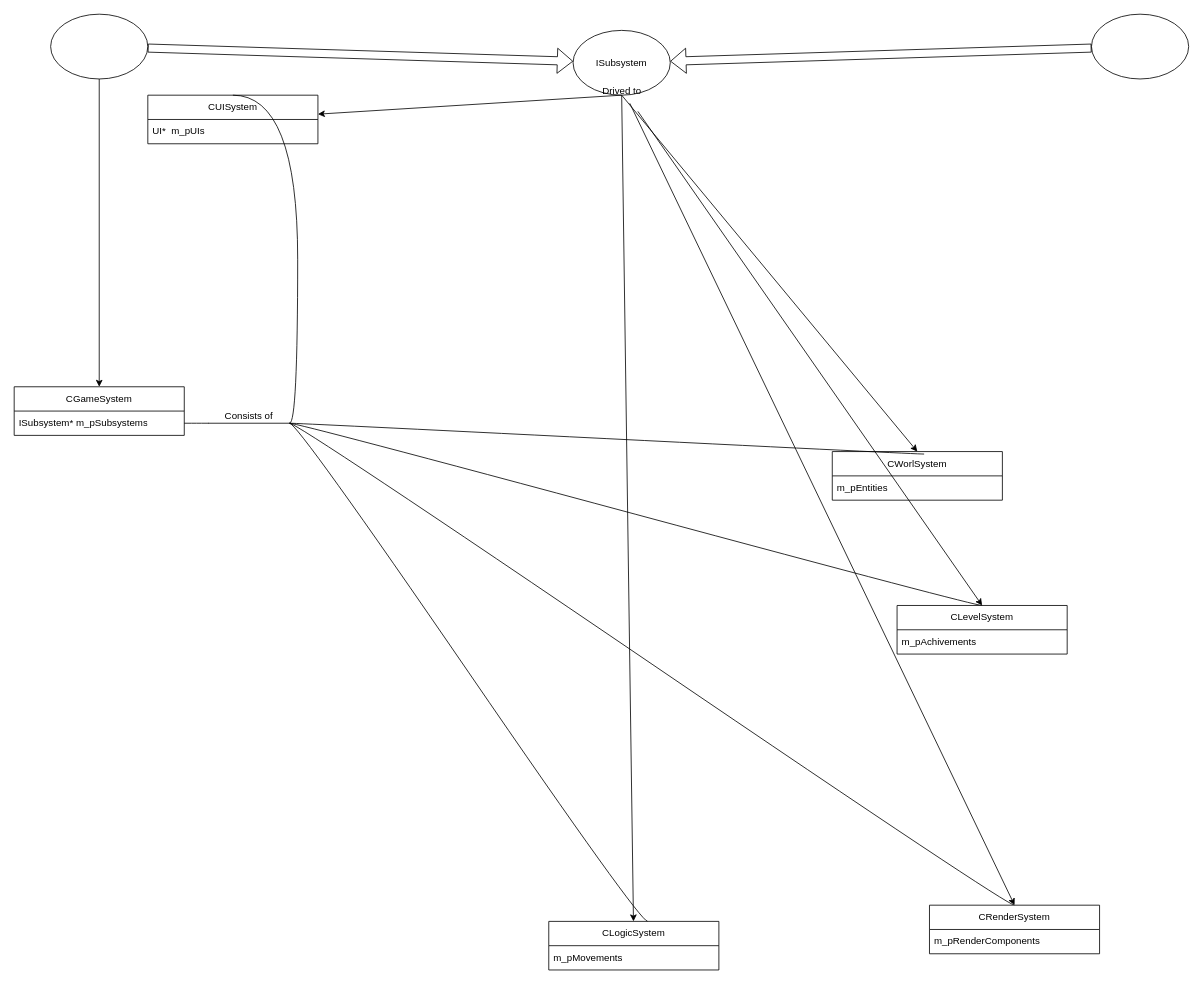
Some shapes in this 1203 by 984 pixel diagram are drawn without their labels. The shapes that lost their labels are listed below. From the top down, each one's centre as x and y in pixels, then its label:
At point (99, 46): "ISystem".
At point (1140, 46): "ISystemComponent".
